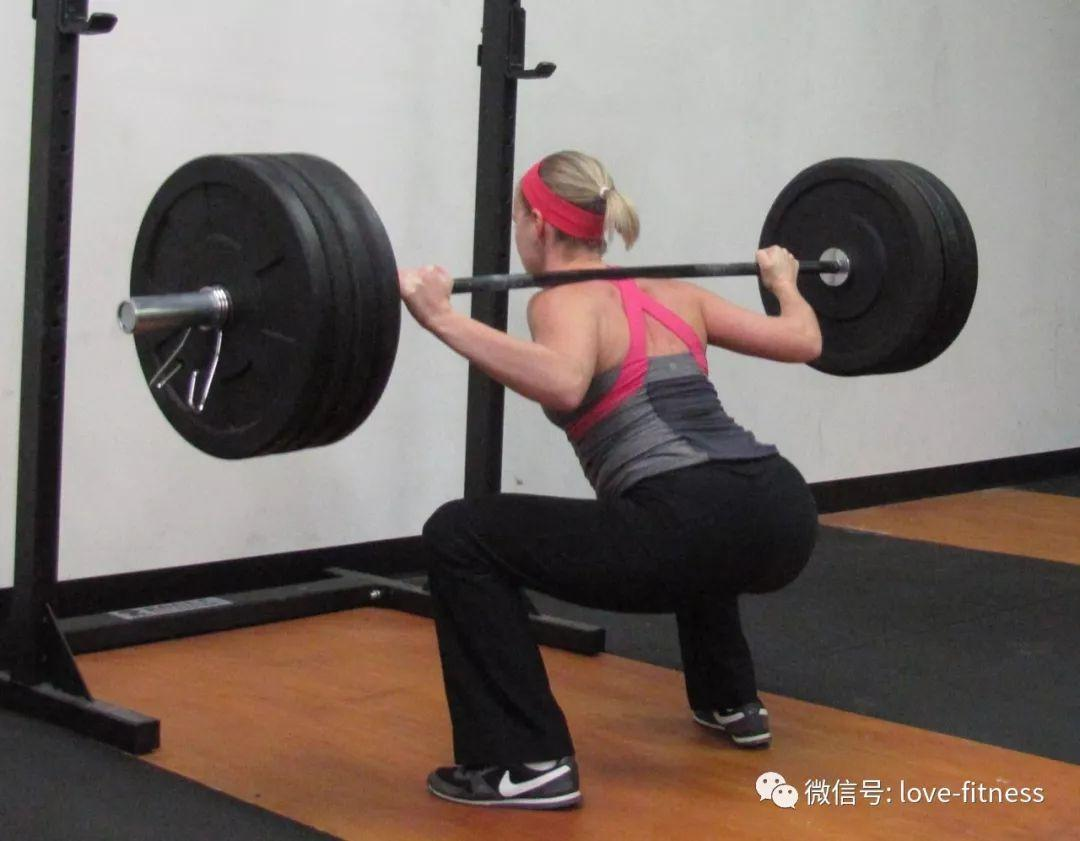Squat: (396, 148, 824, 809)
